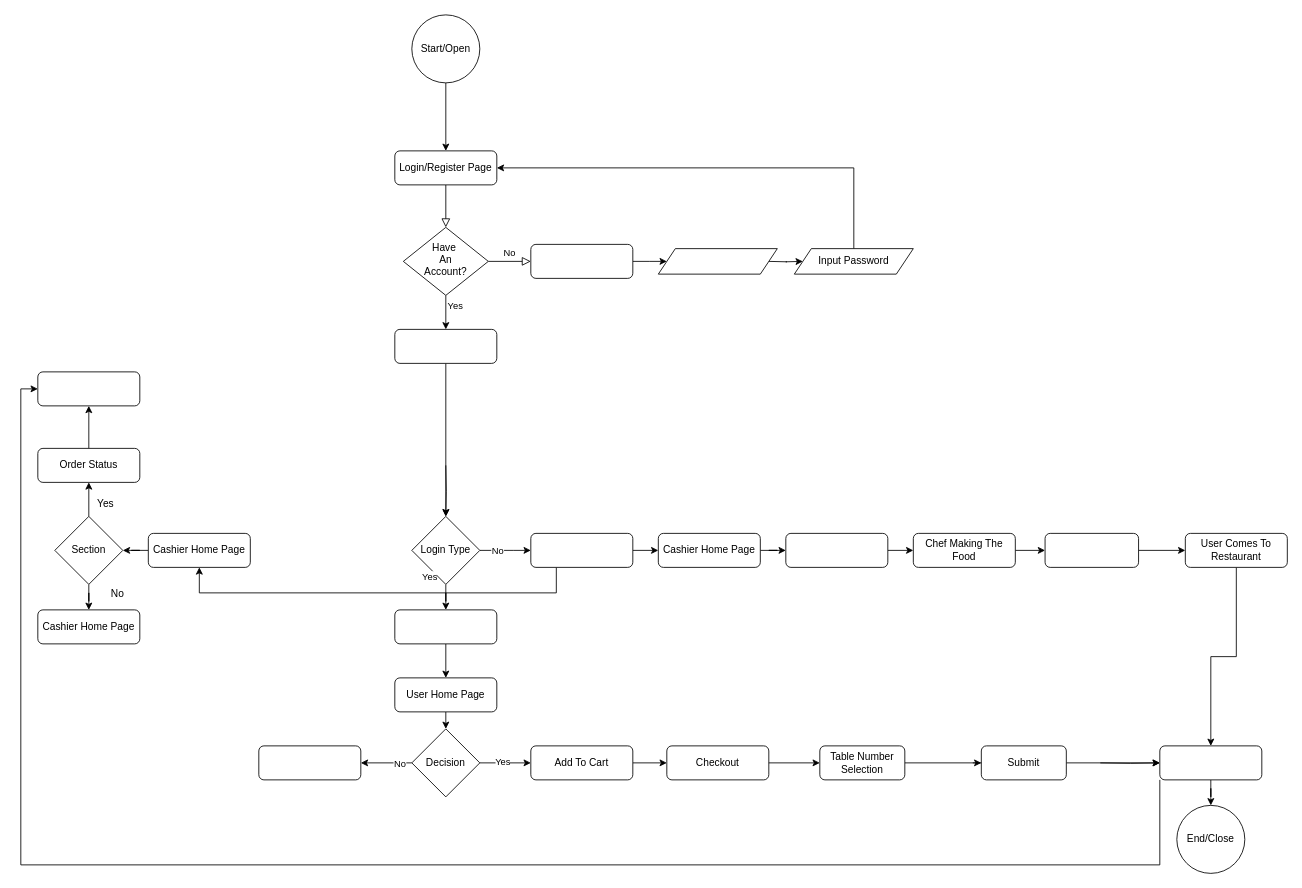
Some shapes in this 1302 by 888 pixel diagram are drawn without their labels. Here are the shapes that lost their labels. From the top down, the centre of each, then its label:
At pixel 581 261: "Register".
At pixel 717 261: "Input Username".
At pixel 445 346: "Login Page".
At pixel 88 388: "Changin Status by condition".
At pixel 581 550: "Cashier Login".
At pixel 836 550: "Cashier Reporting Status".
At pixel 1091 550: "Food Finished".
At pixel 445 626: "User Login".
At pixel 309 762: "Log Out".
At pixel 1210 762: "Order Completed".
